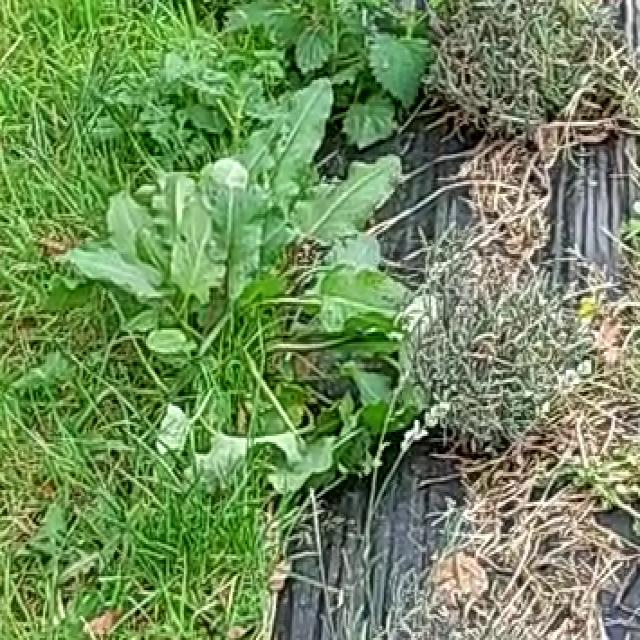organic waste: (103, 116, 454, 492)
